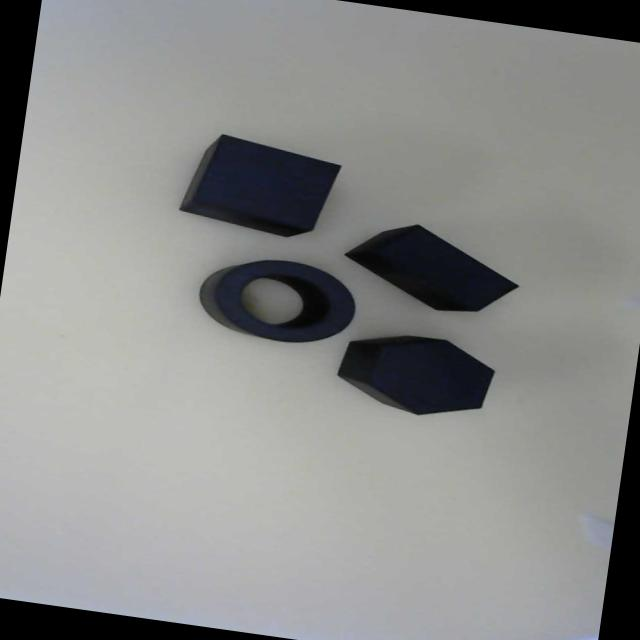hexagon: (358, 324, 504, 426)
rectangle: (374, 224, 520, 313)
ring: (209, 249, 362, 353)
square: (191, 133, 341, 231)
